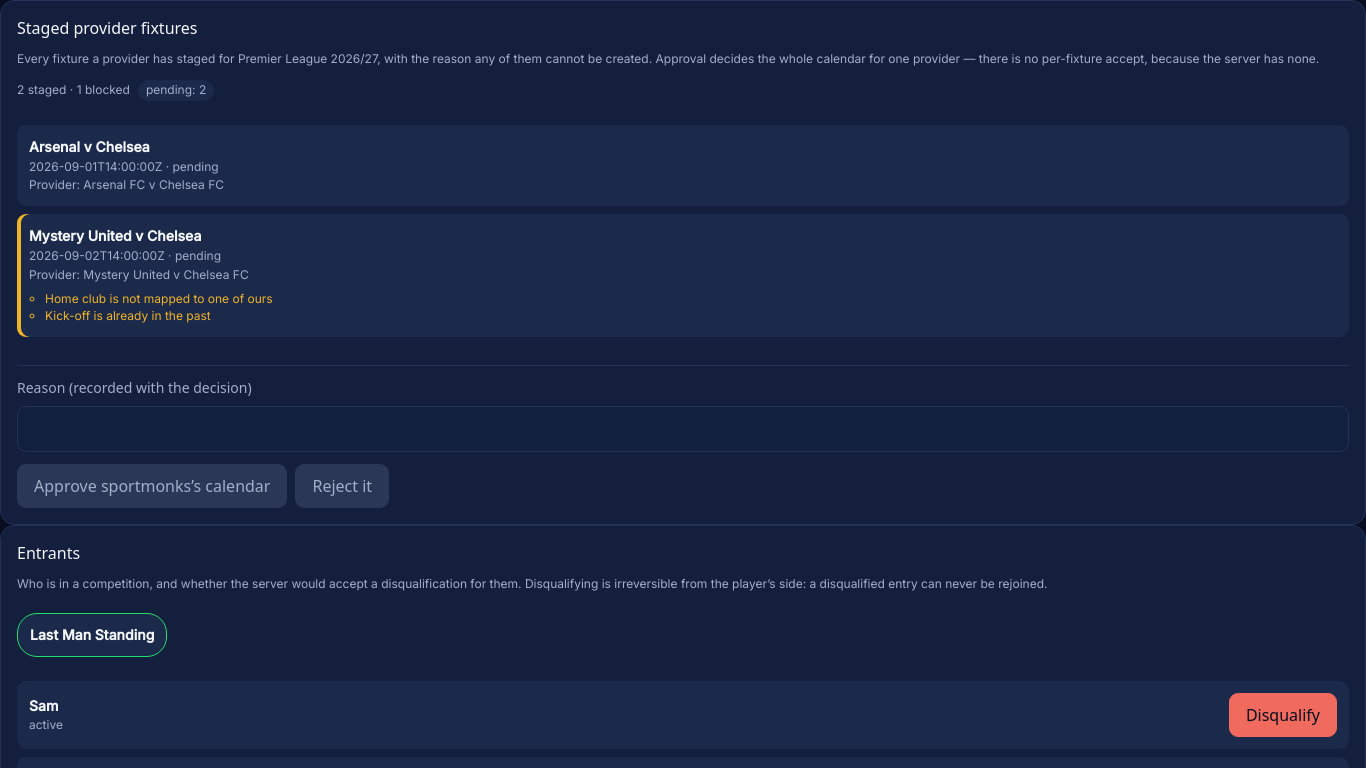
the entrants panel › names the person and warns it cannot be undone before disqualifying
Expected: the text "Sam" is shown, x1=29 y1=696 x2=63 y2=715
Click the button "Disqualify" at (1283, 715), box x1=1229 y1=693 x2=1337 y2=737
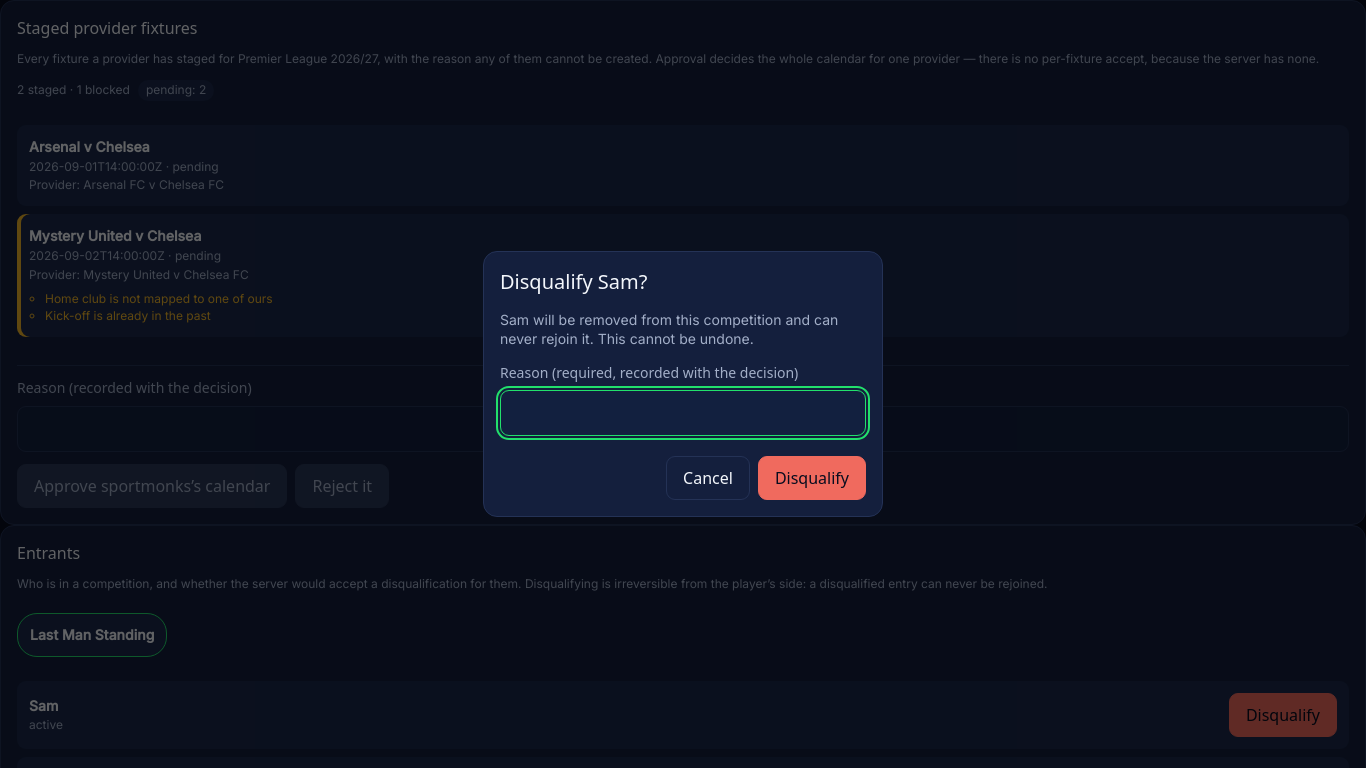
Now the heading "Disqualify Sam?" is shown, box x1=500 y1=268 x2=647 y2=295
Now the text "can never rejoin it" is shown, box x1=500 y1=311 x2=838 y2=347
